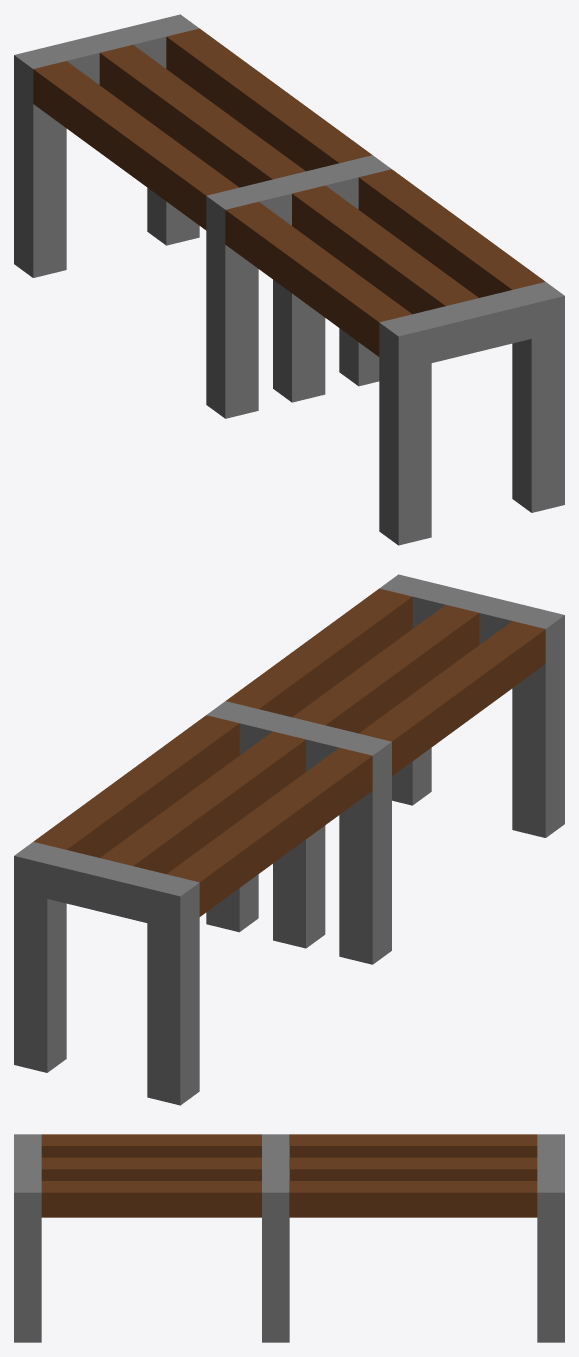
The model's file is bench.dae.
3 renders of one model, top to bottom at view 1: azimuth 30°, elevation 25°; view 2: azimuth 150°, elevation 25°; view 3: azimuth 270°, elevation 25°, orthographic. The views are drawn at different scales.
Visible parts, largest first — view 1: PlaneCOL; view 2: PlaneCOL; view 3: PlaneCOL.
Part boxes in pixels (<box>): PlaneCOL: <box>14,14,564,545</box>; PlaneCOL: <box>14,574,564,1105</box>; PlaneCOL: <box>14,1134,564,1342</box>.
Size of the model in its own units: 0.5 by 2 by 0.6.
